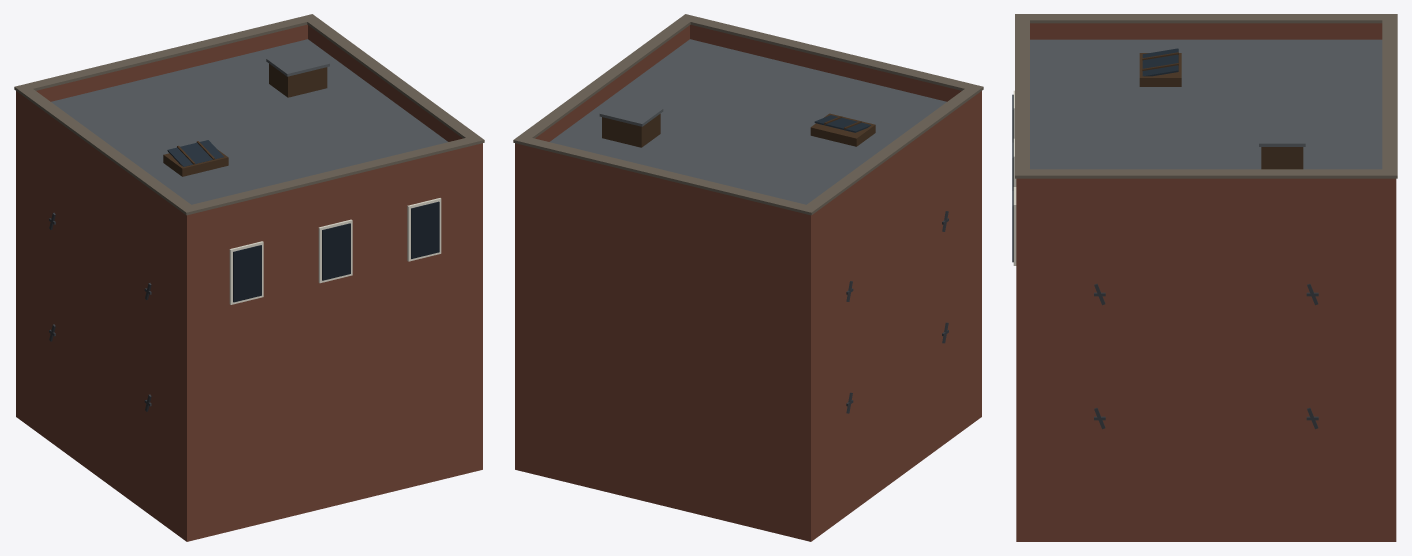
File: dakhuis_plat.glb
3 views of the same model, side by side, from view 1: azimuth 30°, elevation 25°; view 2: azimuth 150°, elevation 25°; view 3: azimuth 270°, elevation 25° (orthographic). The views are drawn at different scales.
Visible parts, largest first — view 1: dakhuis_plat; view 2: dakhuis_plat; view 3: dakhuis_plat.
Part boxes in pixels (x1,y1,x2,y2): dakhuis_plat: (14,14,484,541); dakhuis_plat: (513,14,983,541); dakhuis_plat: (1012,14,1397,541).
Bounding box in the file's own units: 9.11 × 9.78 × 9.12.
